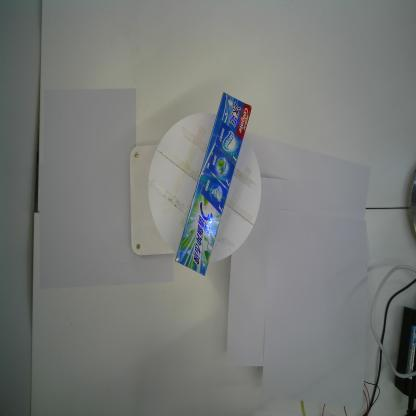Personal Hygiene: (174, 91, 253, 278)
